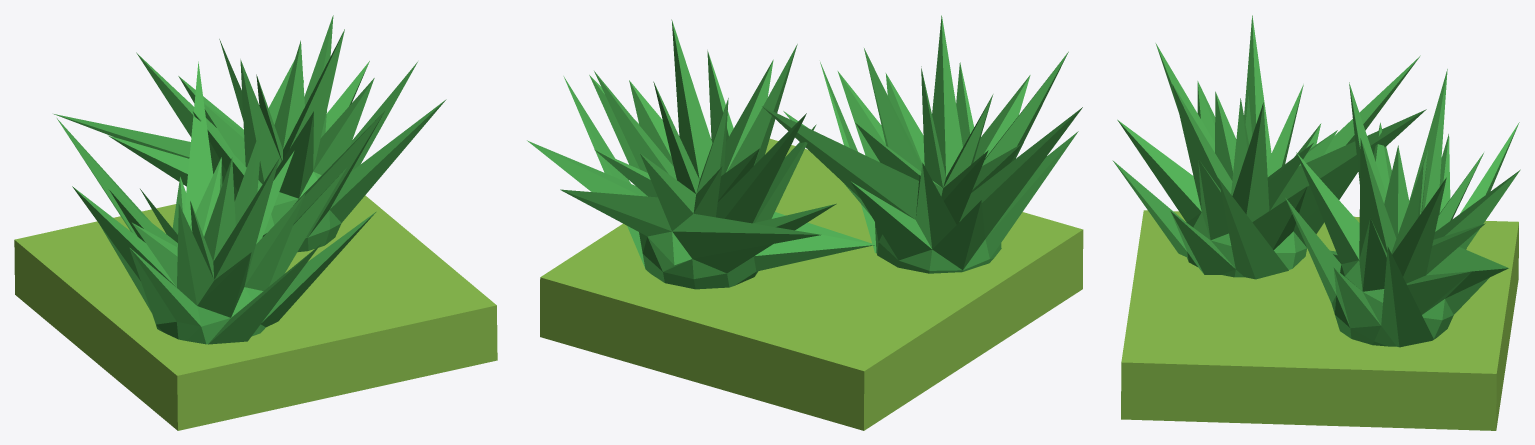
The picture shows the model from 3 angles, left to right: view 1: azimuth 30°, elevation 25°; view 2: azimuth 150°, elevation 25°; view 3: azimuth 270°, elevation 25°; orthographic projection. The views are drawn at different scales.
Visible parts, largest first — view 1: mesh_1537693769, mesh_1103990479, mesh_2098147707; view 2: mesh_1537693769, mesh_2098147707, mesh_1103990479; view 3: mesh_1537693769, mesh_2098147707, mesh_1103990479.
Boxes of the visible parts, x1,y1,x2,y2 form: mesh_1537693769: (14,195,497,430); mesh_1103990479: (57,61,376,344); mesh_2098147707: (54,15,446,252); mesh_1537693769: (540,138,1083,430); mesh_2098147707: (527,19,875,289); mesh_1103990479: (762,15,1082,273); mesh_1537693769: (1121,210,1518,430); mesh_2098147707: (1285,69,1520,347); mesh_1103990479: (1112,15,1426,279).
Size of the model in its own units: 63.07 by 37.95 by 52.2.
